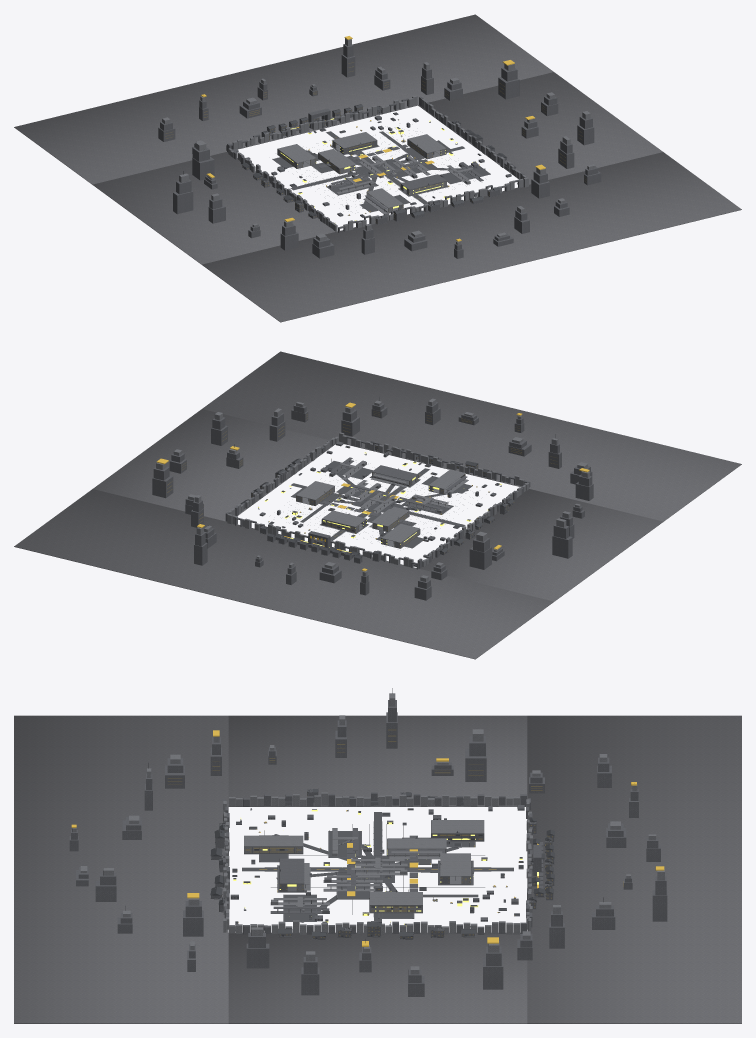
3 renders of one model, top to bottom at view 1: azimuth 30°, elevation 25°; view 2: azimuth 150°, elevation 25°; view 3: azimuth 270°, elevation 25°, orthographic. The views are drawn at different scales.
Parts seen in each view (by area): view 1: HB_z08_LOD0_terrain, HB_z08_LOD0_wall_alt, HB_z08_LOD0_wall, HB_z08_LOD0_road, HB_z08_LOD0_trim, HB_z08_LOD0_glass; view 2: HB_z08_LOD0_terrain, HB_z08_LOD0_wall_alt, HB_z08_LOD0_wall, HB_z08_LOD0_road, HB_z08_LOD0_trim; view 3: HB_z08_LOD0_terrain, HB_z08_LOD0_wall_alt, HB_z08_LOD0_wall, HB_z08_LOD0_road, HB_z08_LOD0_trim, HB_z08_LOD0_glass, HB_z08_LOD0_obstacle, HB_z08_LOD0_accent.
Boxes of the visible parts, box(x1,y1,x2,y2) form: HB_z08_LOD0_terrain: box(14, 14, 741, 322); HB_z08_LOD0_wall_alt: box(158, 44, 601, 258); HB_z08_LOD0_wall: box(162, 38, 595, 244); HB_z08_LOD0_road: box(274, 121, 490, 215); HB_z08_LOD0_trim: box(183, 104, 515, 221); HB_z08_LOD0_glass: box(165, 62, 586, 222); HB_z08_LOD0_terrain: box(14, 351, 741, 659); HB_z08_LOD0_wall_alt: box(152, 402, 593, 600); HB_z08_LOD0_wall: box(156, 398, 589, 581); HB_z08_LOD0_road: box(258, 454, 501, 547); HB_z08_LOD0_trim: box(208, 397, 562, 565); HB_z08_LOD0_terrain: box(14, 715, 741, 1023); HB_z08_LOD0_wall_alt: box(69, 700, 667, 996); HB_z08_LOD0_wall: box(72, 693, 664, 974); HB_z08_LOD0_road: box(240, 810, 515, 926); HB_z08_LOD0_trim: box(125, 688, 603, 942); HB_z08_LOD0_glass: box(168, 729, 623, 937); HB_z08_LOD0_obstacle: box(230, 808, 524, 931); HB_z08_LOD0_accent: box(71, 730, 664, 946).
Size of the model in its own units: 712 by 60.49 by 712.
Materials: 10 (8 with a texture image).
